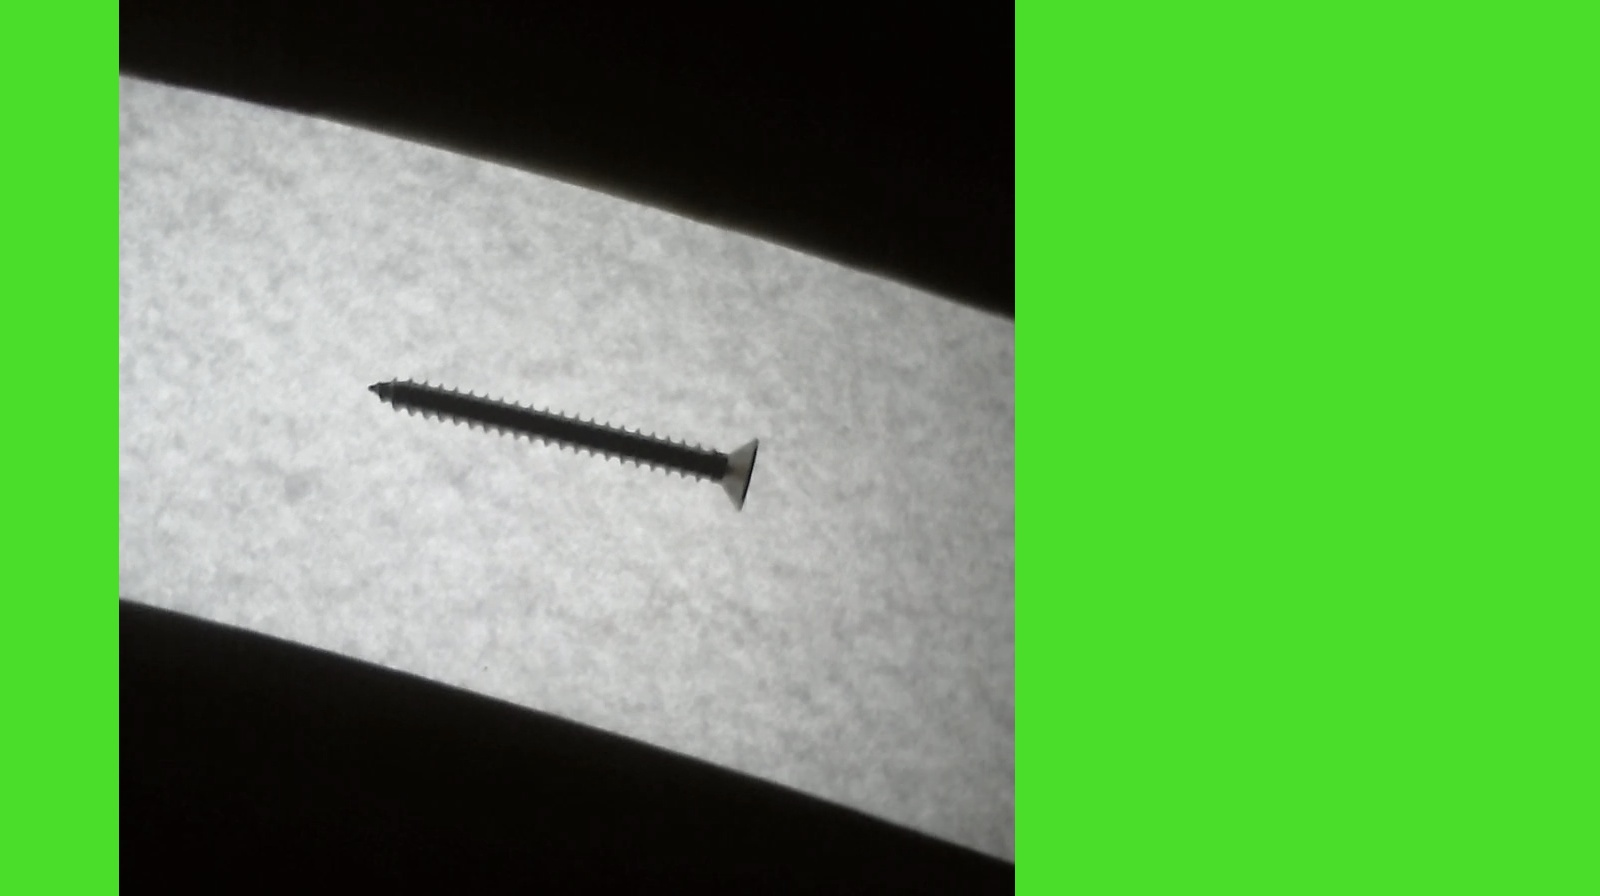S002: (356, 353, 765, 532)
